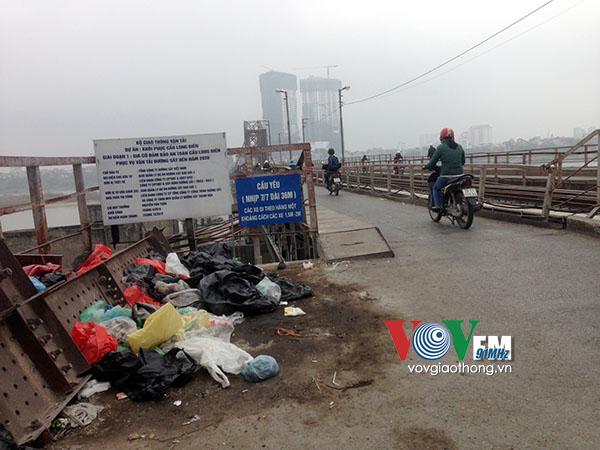plastic bag: (22, 240, 316, 426)
